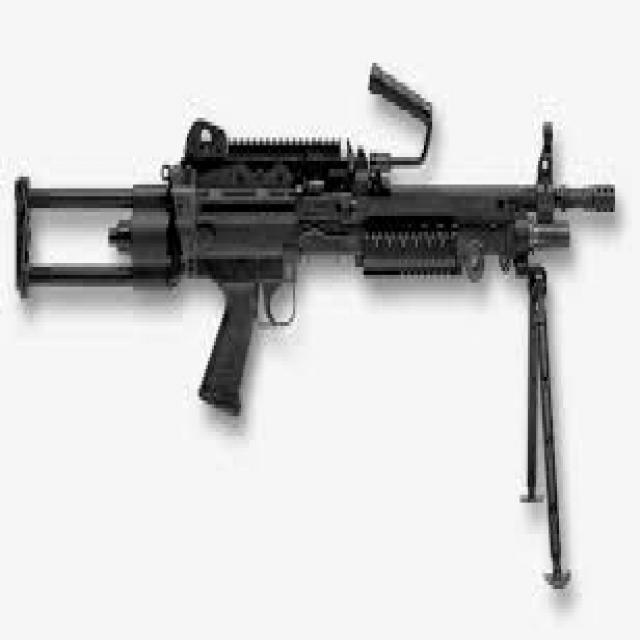weapon: (13, 61, 617, 594)
